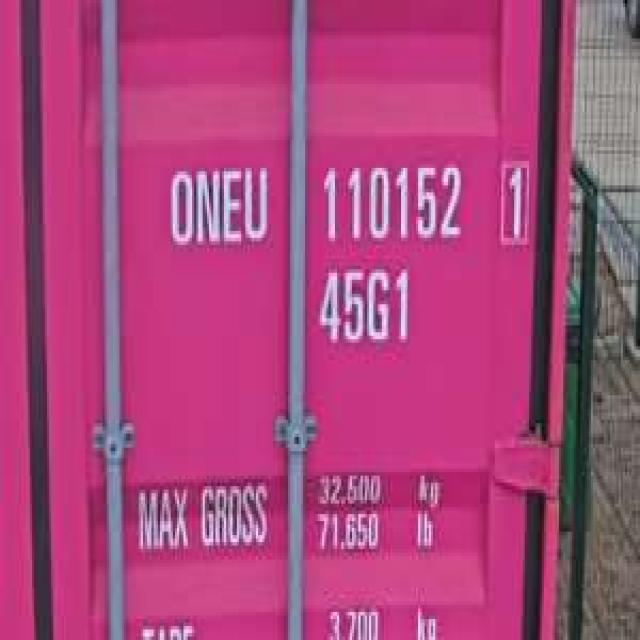dv: (497, 150, 531, 245)
owner: (164, 157, 273, 252)
serial: (312, 150, 467, 248)
size: (314, 259, 416, 350)
